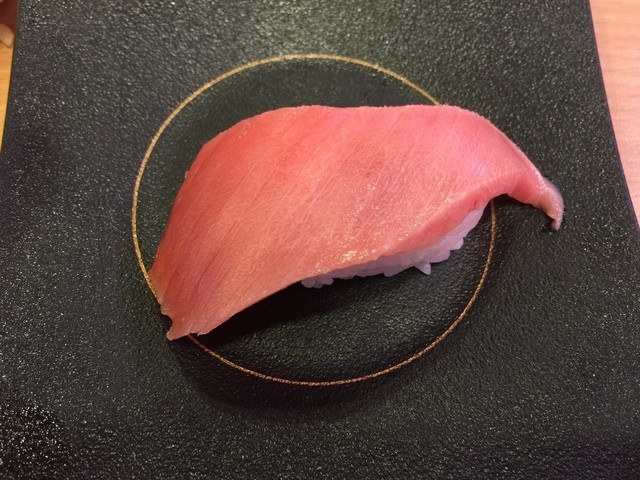medium_fatty_tuna: (152, 103, 570, 343)
